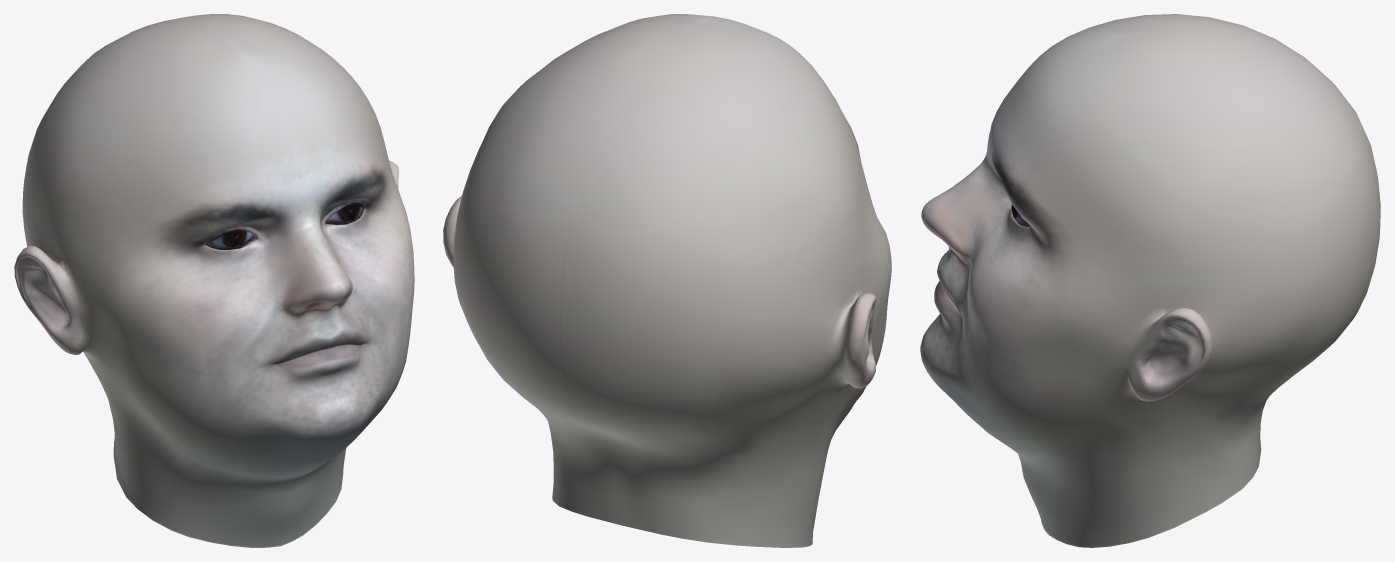
The picture shows the model from 3 angles, left to right: view 1: azimuth 30°, elevation 25°; view 2: azimuth 150°, elevation 25°; view 3: azimuth 270°, elevation 25°; orthographic projection. The views are drawn at different scales.
Parts seen in each view (by area): view 1: skin_hi, eyeR_hi, eyeL_hi; view 2: skin_hi; view 3: skin_hi.
Part boxes in pixels (box(x1,y1,x2,y2)): skin_hi: box(14, 14, 414, 547); eyeR_hi: box(205, 230, 254, 249); eyeL_hi: box(325, 203, 364, 224); skin_hi: box(443, 14, 891, 547); skin_hi: box(920, 14, 1380, 547).
Size of the model in its own units: 230 by 277 by 235.
